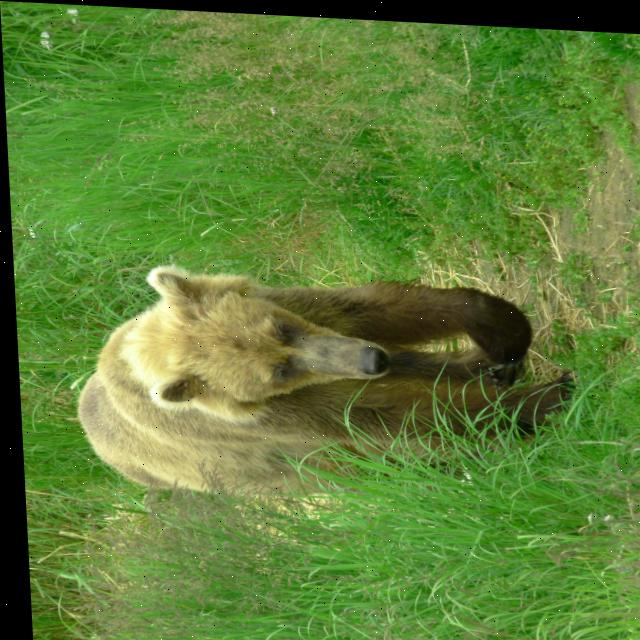bear face: (67, 263, 567, 499)
